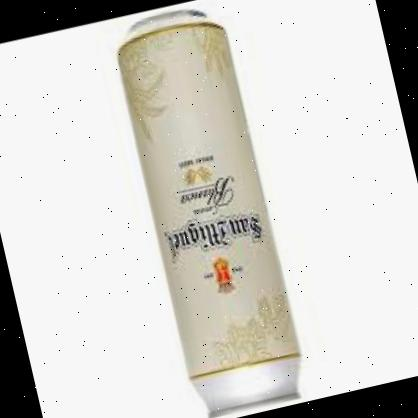can: (102, 0, 314, 418)
